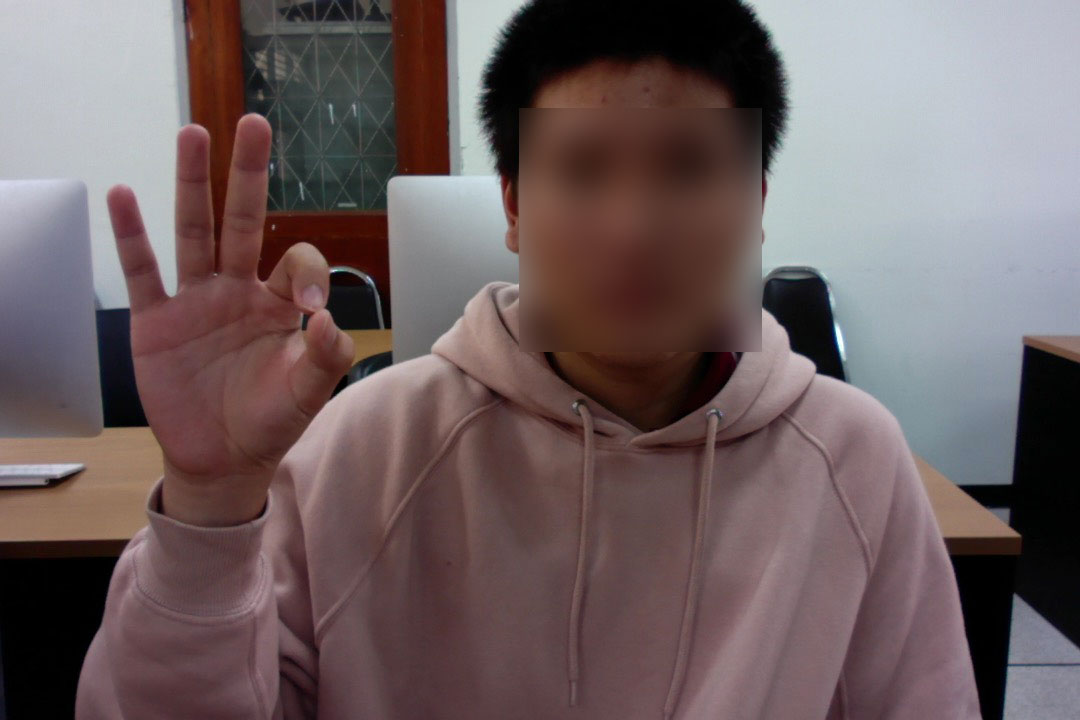for: (91, 101, 363, 518)
